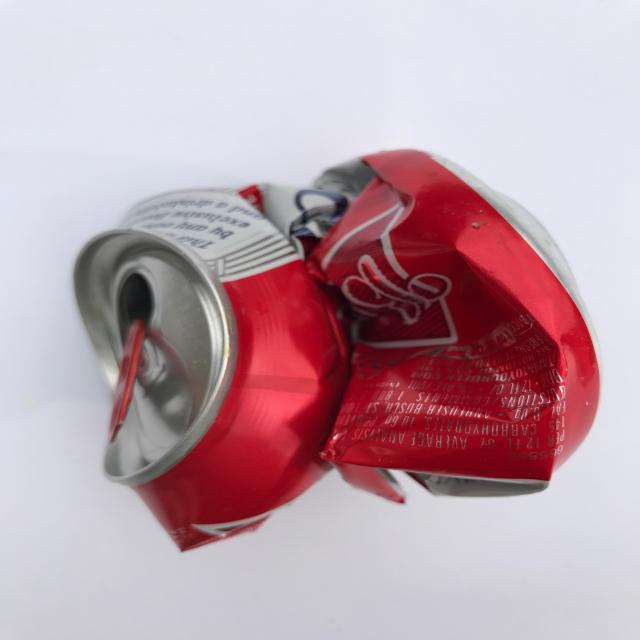metal: (57, 148, 602, 552)
